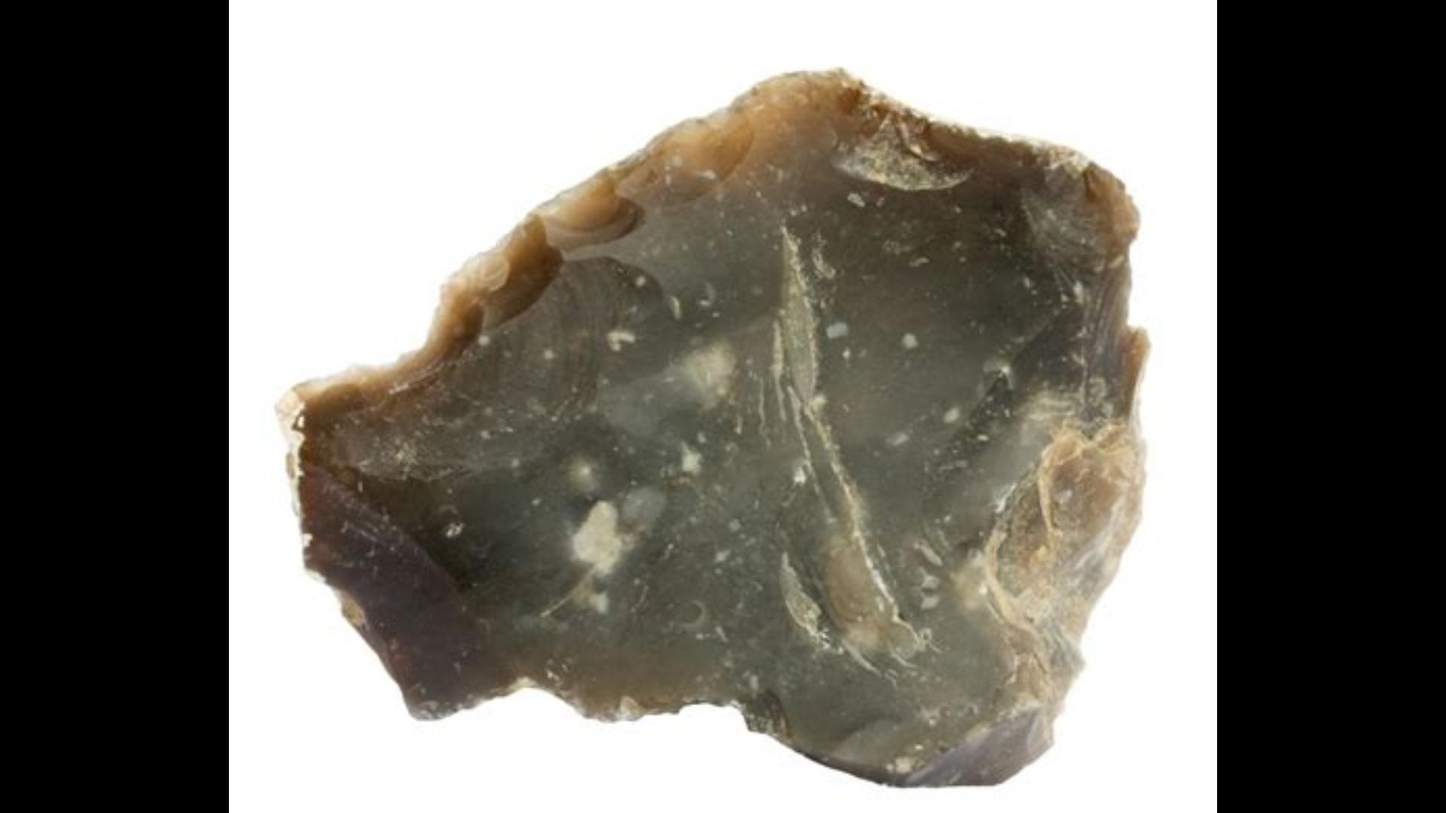rock: (285, 71, 1145, 775)
